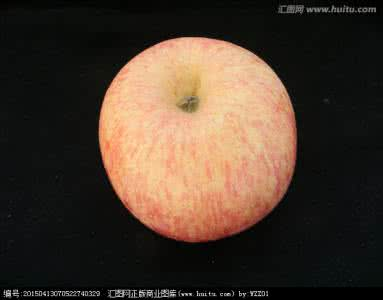apple: (94, 27, 297, 241)
